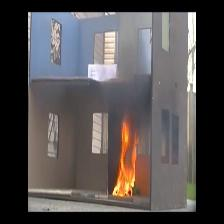fire: (112, 115, 140, 198)
smoke: (115, 20, 150, 132)
